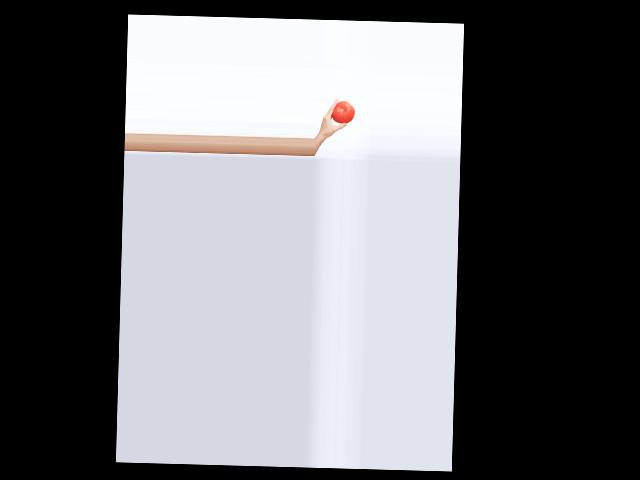tomato: (332, 100, 354, 123)
